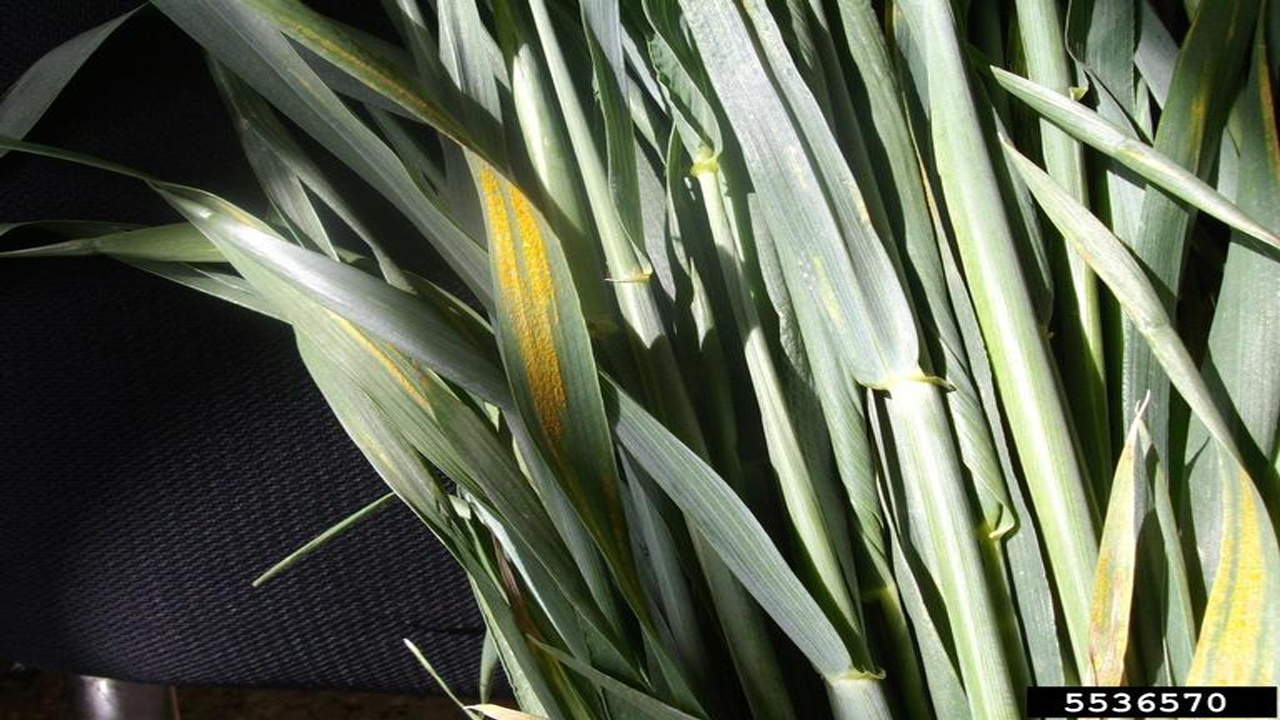stripe_rust: (153, 179, 559, 710), (463, 156, 667, 669), (239, 1, 493, 164)
